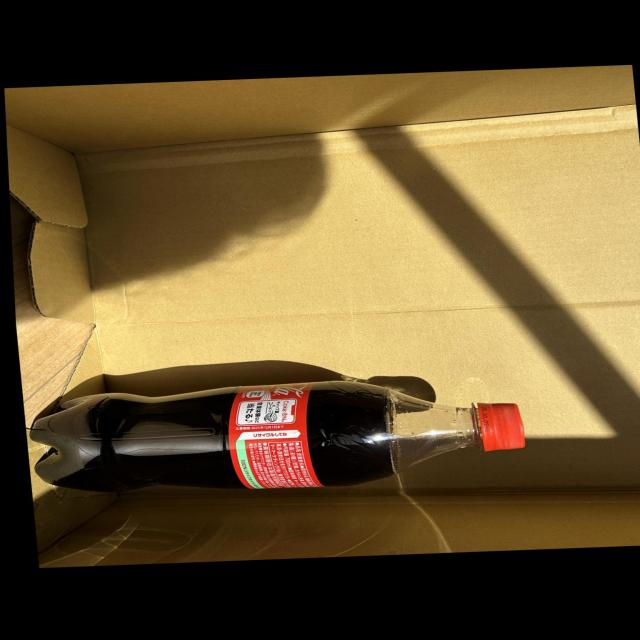high: (31, 380, 525, 492)
